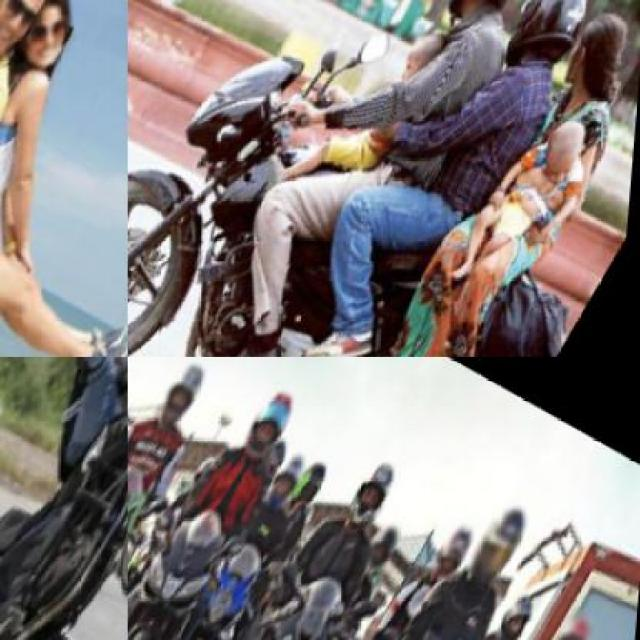With Helmet: (495, 0, 609, 75), (464, 489, 541, 585), (238, 374, 307, 460), (342, 447, 408, 528), (151, 357, 215, 431), (429, 506, 488, 580), (261, 445, 316, 517), (284, 446, 338, 514), (431, 0, 552, 29), (495, 577, 551, 638), (361, 510, 414, 572), (548, 598, 608, 638)
Without Helmet: (556, 0, 638, 106), (9, 0, 95, 78), (0, 0, 71, 72)
